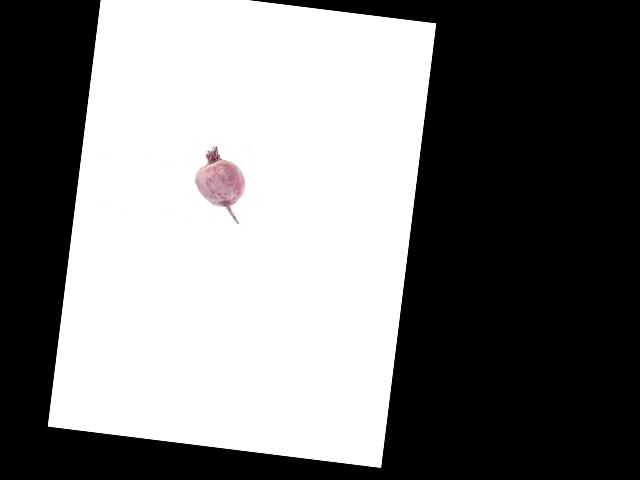beet: (191, 144, 249, 223)
